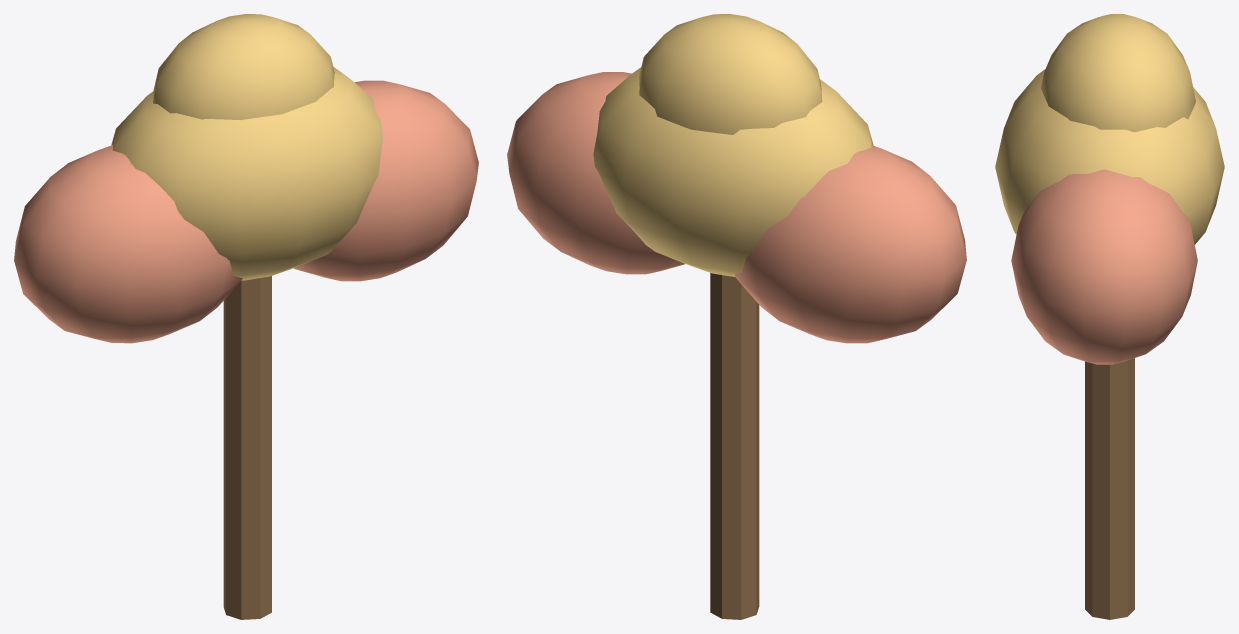
Rendered from granular_autumn_tree.glb.
3 views of the same model, side by side, from view 1: azimuth 30°, elevation 25°; view 2: azimuth 150°, elevation 25°; view 3: azimuth 270°, elevation 25° (orthographic).
Visible parts, largest first — view 1: granular_autumn_tree_root; view 2: granular_autumn_tree_root; view 3: granular_autumn_tree_root.
Boxes of the visible parts, bbox=[...] form: granular_autumn_tree_root: bbox=[14, 14, 478, 619]; granular_autumn_tree_root: bbox=[507, 14, 966, 619]; granular_autumn_tree_root: bbox=[995, 14, 1224, 619].
Bounding box in the file's own units: 4.08 × 5.2 × 1.85.
